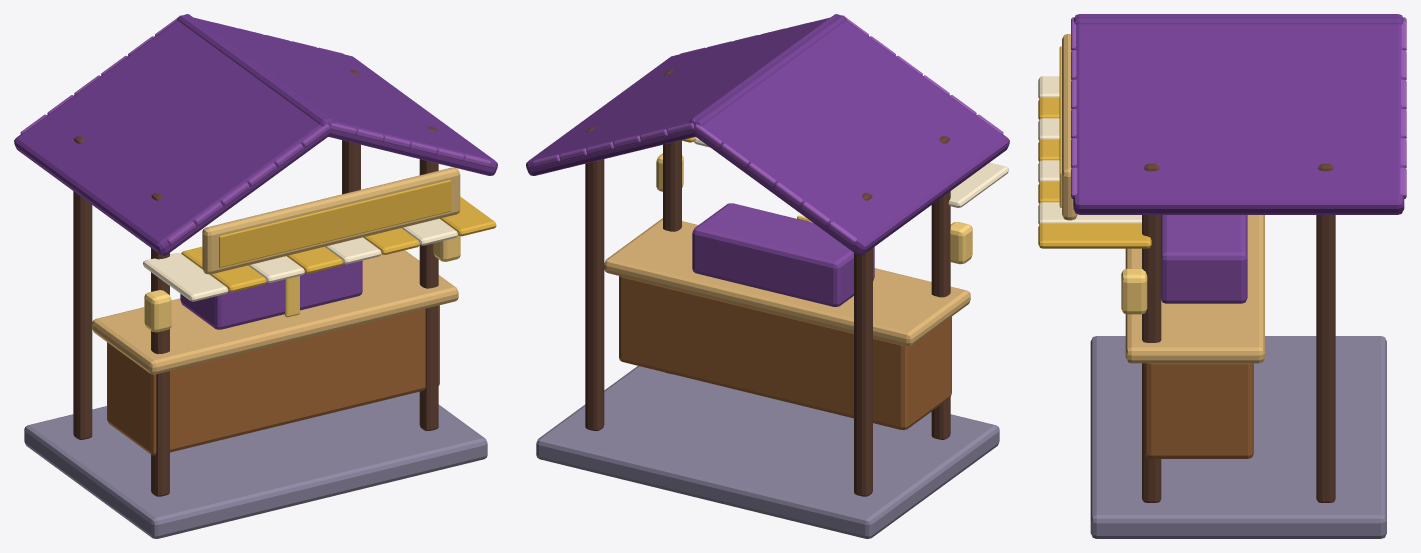
File: Pavilion_Rewards.glb
3 renders of one model, left to right at view 1: azimuth 30°, elevation 25°; view 2: azimuth 150°, elevation 25°; view 3: azimuth 270°, elevation 25°, orthographic. The views are drawn at different scales.
Visible parts, largest first — view 1: Roof.008, StoneBase.004, Counter.004, Roof.009, CounterTop.004, SignInset.004, Sign.004, Chest, Post.017, Post.018, Post.016, AwningStripe.032 (+11 smaller); view 2: StoneBase.004, Roof.008, Counter.004, Roof.009, CounterTop.004, Chest, Post.019, Post.017, Post.016, Post.018, AwningStripe.032, Lantern.008; view 3: Roof.009, StoneBase.004, Counter.004, CounterTop.004, Chest, Post.019, Post.018, Roof.008, AwningStripe.039, Sign.004, Lantern.009, AwningStripe.038 (+7 smaller).
Part boxes in pixels (x1,y1,x2,y2): Roof.008: (14, 14, 334, 255); StoneBase.004: (24, 391, 487, 538); Counter.004: (107, 305, 439, 455); Roof.009: (177, 15, 497, 175); CounterTop.004: (92, 250, 458, 374); SignInset.004: (219, 180, 451, 267); Sign.004: (202, 167, 460, 274); Chest: (180, 260, 362, 329); Post.017: (73, 136, 92, 439); Post.018: (419, 126, 438, 430); Post.016: (151, 193, 169, 496); AwningStripe.032: (143, 253, 228, 301); StoneBase.004: (536, 366, 999, 538); Roof.008: (689, 14, 1009, 255); Counter.004: (619, 276, 951, 430); Roof.009: (526, 15, 846, 175); CounterTop.004: (604, 218, 970, 346); Chest: (692, 203, 874, 306); Post.019: (585, 126, 604, 430); Post.017: (854, 193, 872, 496); Post.016: (931, 136, 950, 439); Post.018: (663, 70, 681, 373); AwningStripe.032: (948, 162, 1008, 207); Lantern.008: (950, 222, 972, 264); Roof.009: (1073, 14, 1404, 214); StoneBase.004: (1090, 336, 1386, 538); Counter.004: (1146, 363, 1253, 458); CounterTop.004: (1125, 215, 1264, 363); Chest: (1161, 215, 1247, 303); Post.019: (1316, 163, 1335, 502); Post.018: (1142, 163, 1161, 502); Roof.008: (1074, 16, 1403, 24); AwningStripe.039: (1038, 223, 1151, 248); Sign.004: (1062, 34, 1077, 220); Lantern.009: (1121, 268, 1147, 314); AwningStripe.038: (1038, 202, 1141, 224).
Bounding box in the file's own units: 5.07 × 5.49 × 4.23.
